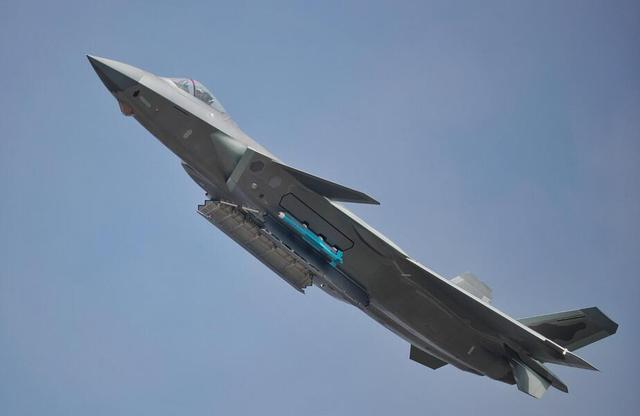airplane: (82, 54, 624, 404)
